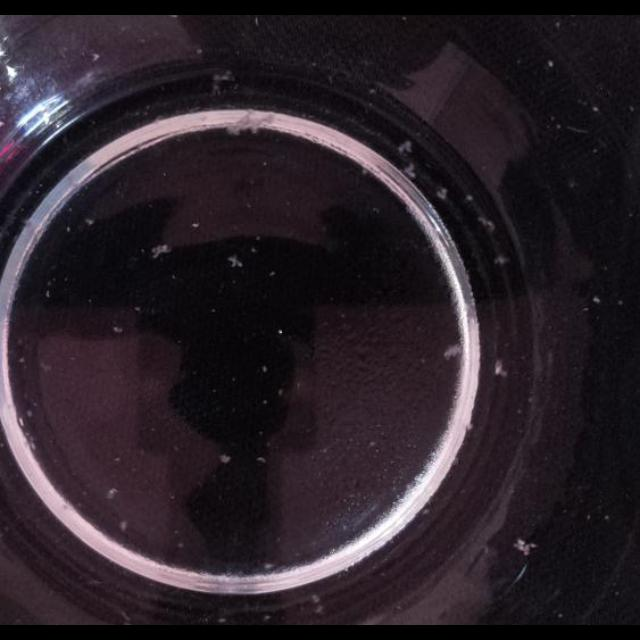Fibre: (210, 70, 238, 94), (151, 243, 171, 259), (397, 138, 413, 156), (477, 216, 495, 232), (402, 162, 416, 180), (226, 255, 242, 269), (436, 187, 448, 201), (495, 255, 509, 267)
microbeads: (514, 538, 536, 556), (494, 362, 508, 376), (40, 361, 52, 373), (108, 488, 119, 500), (112, 324, 124, 334), (361, 166, 371, 178), (219, 454, 231, 464), (310, 594, 320, 604), (568, 179, 578, 189), (315, 604, 325, 614), (368, 439, 378, 448), (592, 296, 602, 304), (190, 220, 200, 228), (92, 52, 100, 62), (84, 218, 94, 226), (120, 520, 128, 530), (256, 456, 266, 464), (368, 87, 378, 95), (16, 418, 24, 428), (18, 356, 26, 364), (547, 60, 555, 68), (176, 542, 184, 550), (466, 194, 474, 202), (592, 105, 600, 112), (26, 409, 32, 418), (278, 388, 284, 397), (262, 365, 268, 373), (268, 270, 276, 276), (45, 290, 51, 298), (617, 300, 623, 306), (604, 514, 610, 520), (277, 329, 283, 335)
